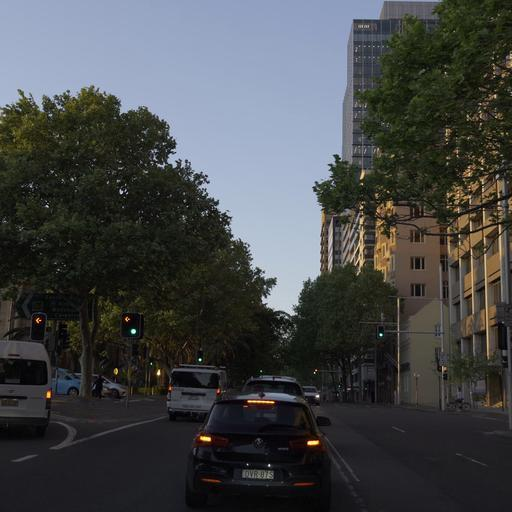Street light: (120, 311, 142, 338), (29, 311, 46, 340), (376, 324, 384, 339), (196, 348, 203, 363)
